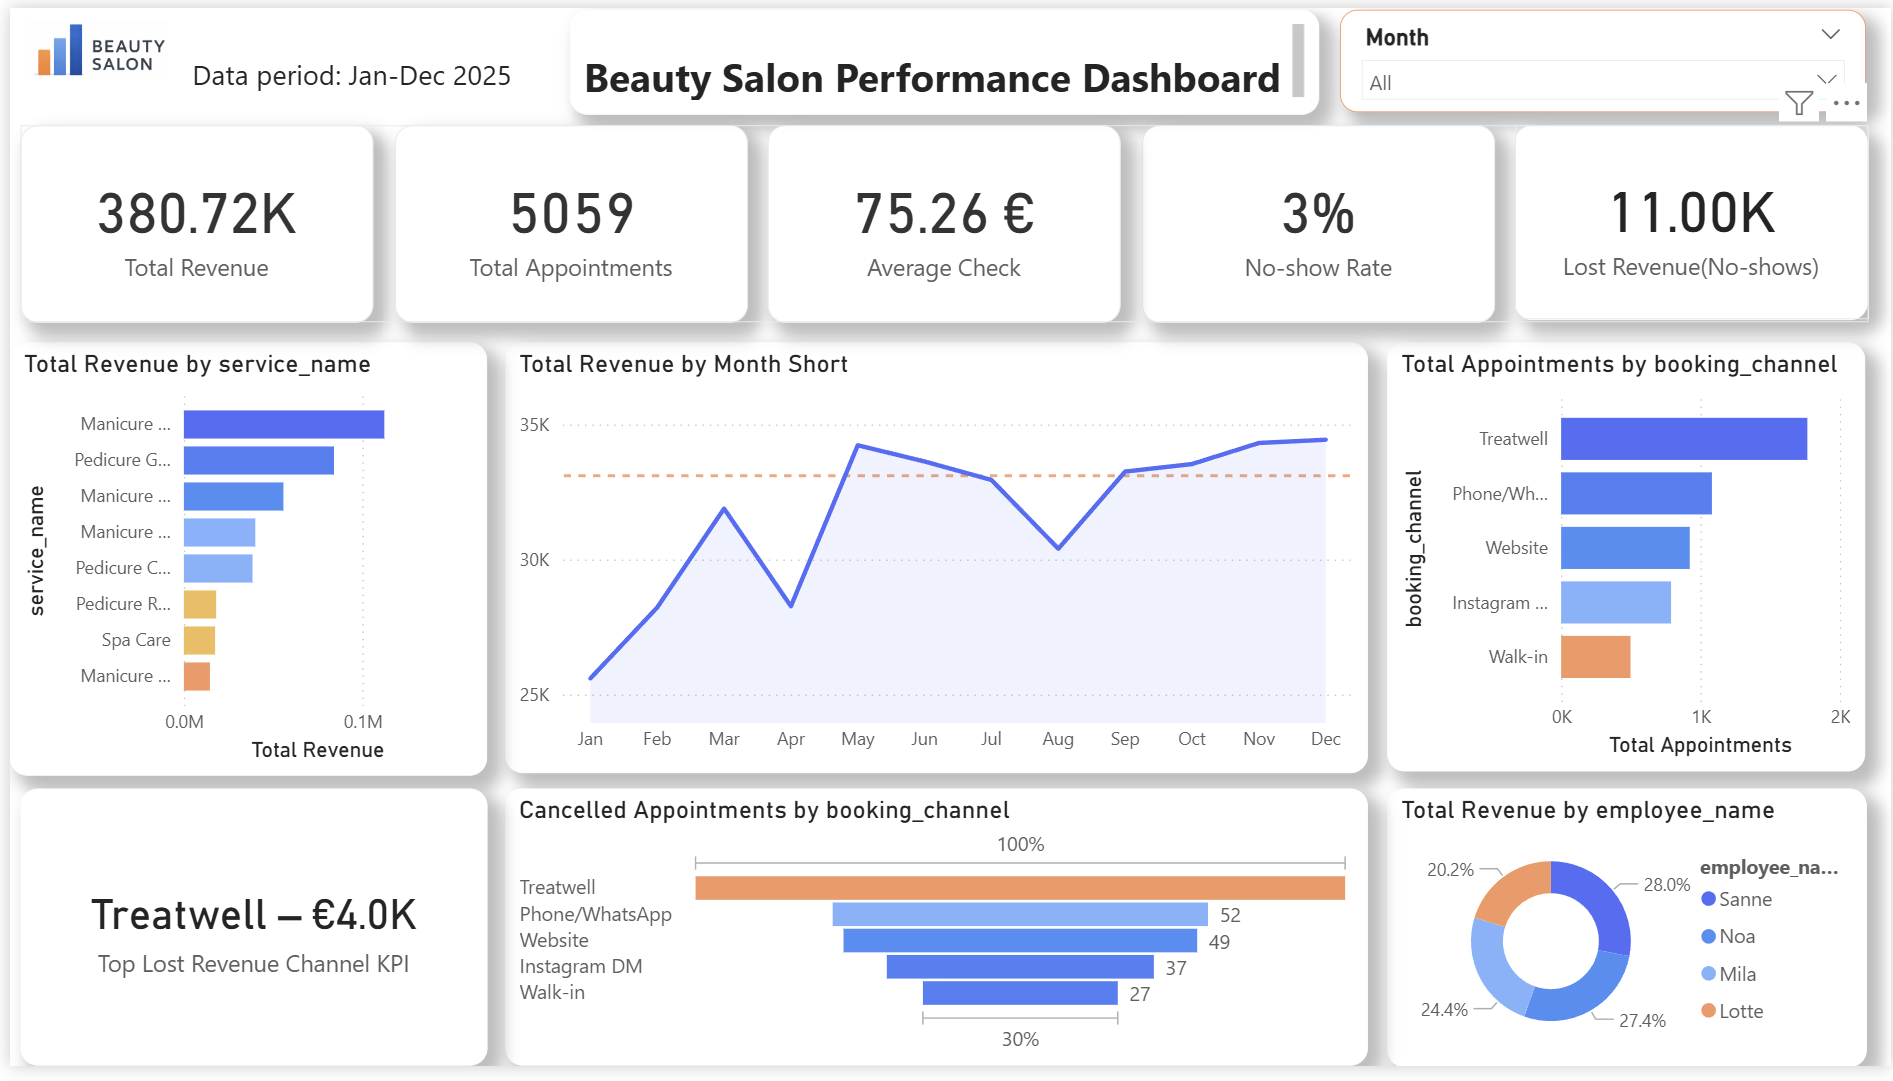

The page's visual inventory and layout, read from the dashboard file:
{"tool":"powerbi","page":{"name":"Owner Overview","canvas":[1280,720],"ordinal":1},"visuals":[{"type":"card","fields":{"Values":["_Measures.Total Revenue"]},"box":[7,80,240,134],"z":0,"group":"g1"},{"type":"lineChart","fields":{"Y":["_Measures.Total Revenue"],"Category":["dim_date.Month Short"]},"box":[337,227,586.6,293.3],"z":0},{"type":"card","fields":{"Values":["_Measures.Total Appointments"]},"box":[261.3,80,240,134],"z":1000,"group":"g1"},{"type":"clusteredBarChart","fields":{"Category":["fact_appointments.booking_channel"],"Y":["_Measures.Total Appointments"]},"box":[937.2,227.8,325.2,292.1],"z":1000},{"type":"clusteredBarChart","fields":{"Category":["dim_service.service_name"],"Y":["_Measures.Total Revenue"]},"box":[0,227,324.7,295.1],"z":2000},{"type":"card","fields":{"Values":["_Measures.No-show Rate"]},"box":[769.9,80,240,134],"z":3000,"group":"g1"},{"type":"textbox","box":[380.6,1.7,509.8,71.6],"z":3000},{"type":"card","fields":{"Values":["_Measures.Average Check"]},"box":[515.6,80,240,134],"z":4000,"group":"g1"},{"type":"textbox","box":[118.7,27.9,253.2,43.6],"z":4000},{"type":"slicer","fields":{"Values":["dim_date.date_id.Variation.Date Hierarchy.Month"]},"box":[904.4,1.7,357.9,69.8],"z":5000},{"type":"group","id":"g1","title":"Group 1","box":[7,80,1257.2,134],"z":6000},{"type":"donutChart","fields":{"Category":["dim_employee.employee_name"],"Y":["_Measures.Total Revenue"]},"box":[936.6,530.4,326.2,189.4],"z":7000},{"type":"card","fields":{"Values":["_Measures.Lost Revenue(No-shows)"]},"box":[1024.2,80,240,132.6],"z":8000,"group":"g1"},{"type":"funnel","fields":{"Category":["fact_appointments.booking_channel"],"Y":["_Measures.Cancelled Appointments"]},"box":[337,530.8,586.6,188.6],"z":8000},{"type":"card","fields":{"Values":["_Measures.Top Lost Revenue Channel KPI"]},"box":[7,530.8,317.8,188.6],"z":9000},{"type":"image","box":[0,8.7,118.7,41.9],"z":10000}]}

Visuals, with their boxes in screenshot pixels (x1, y1, x2, y2), scaled from the page's 1280x720 canvas onto the 1893x1081 screenshot:
card - _Measures.Total Revenue: 10, 120, 365, 321
lineChart - _Measures.Total Revenue x dim_date.Month Short: 498, 341, 1366, 781
card - _Measures.Total Appointments: 386, 120, 741, 321
clusteredBarChart - fact_appointments.booking_channel x _Measures.Total Appointments: 1386, 342, 1867, 781
clusteredBarChart - dim_service.service_name x _Measures.Total Revenue: 0, 341, 480, 784
card - _Measures.No-show Rate: 1139, 120, 1494, 321
textbox: 563, 3, 1317, 110
card - _Measures.Average Check: 763, 120, 1117, 321
textbox: 176, 42, 550, 107
slicer - dim_date.date_id.Variation.Date Hierarchy.Month: 1338, 3, 1867, 107
"Group 1" group: 10, 120, 1870, 321
donutChart - dim_employee.employee_name x _Measures.Total Revenue: 1385, 796, 1868, 1080
card - _Measures.Lost Revenue(No-shows): 1515, 120, 1870, 319
funnel - fact_appointments.booking_channel x _Measures.Cancelled Appointments: 498, 797, 1366, 1080
card - _Measures.Top Lost Revenue Channel KPI: 10, 797, 480, 1080
image: 0, 13, 176, 76
